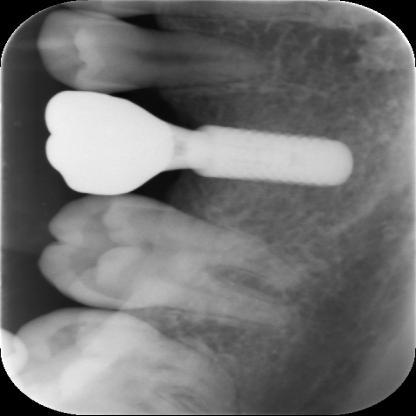ITI: (192, 130, 364, 186)
